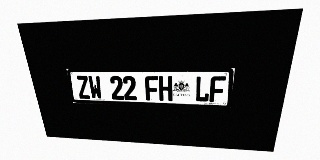2: (109, 76, 124, 100), (122, 76, 137, 100)
F: (209, 76, 226, 102), (145, 76, 159, 101)
H: (158, 76, 172, 101)
L: (195, 76, 210, 102)
W: (88, 76, 103, 99)
Z: (75, 76, 91, 99)
